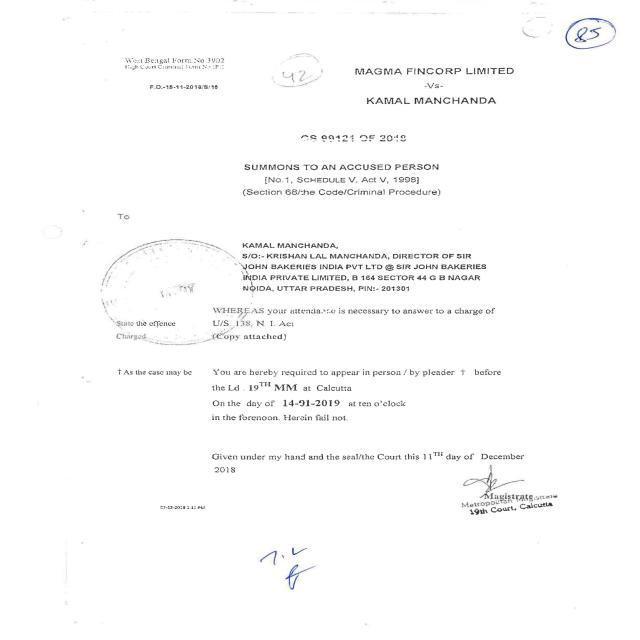page-number: (535, 0, 640, 67)
